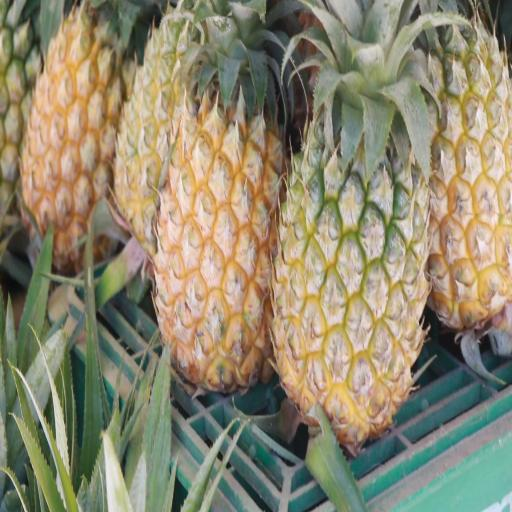------------------------------: (269, 0, 430, 460)
Pineapple - v8 v1: (147, 0, 286, 399), (407, 0, 512, 337), (17, 0, 133, 278)
